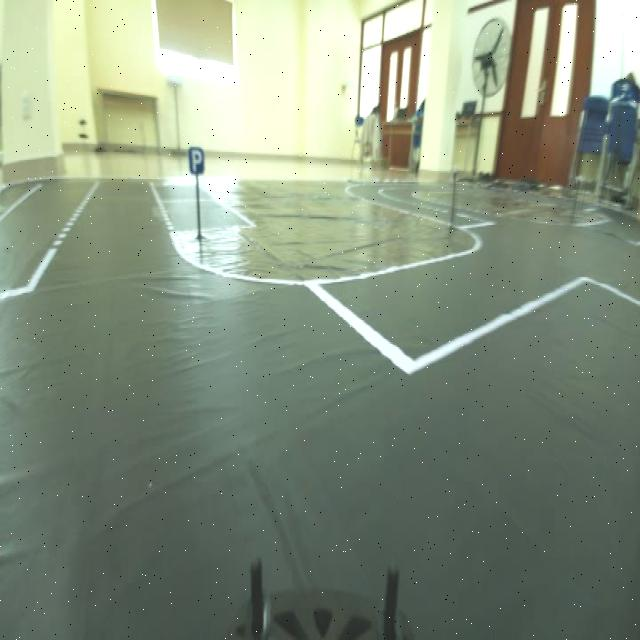parking: (182, 139, 208, 175)
